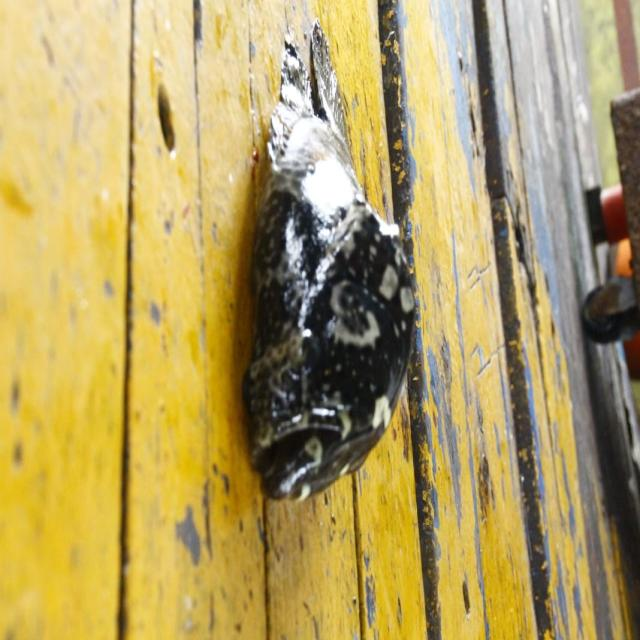ikan: (227, 28, 438, 533)
